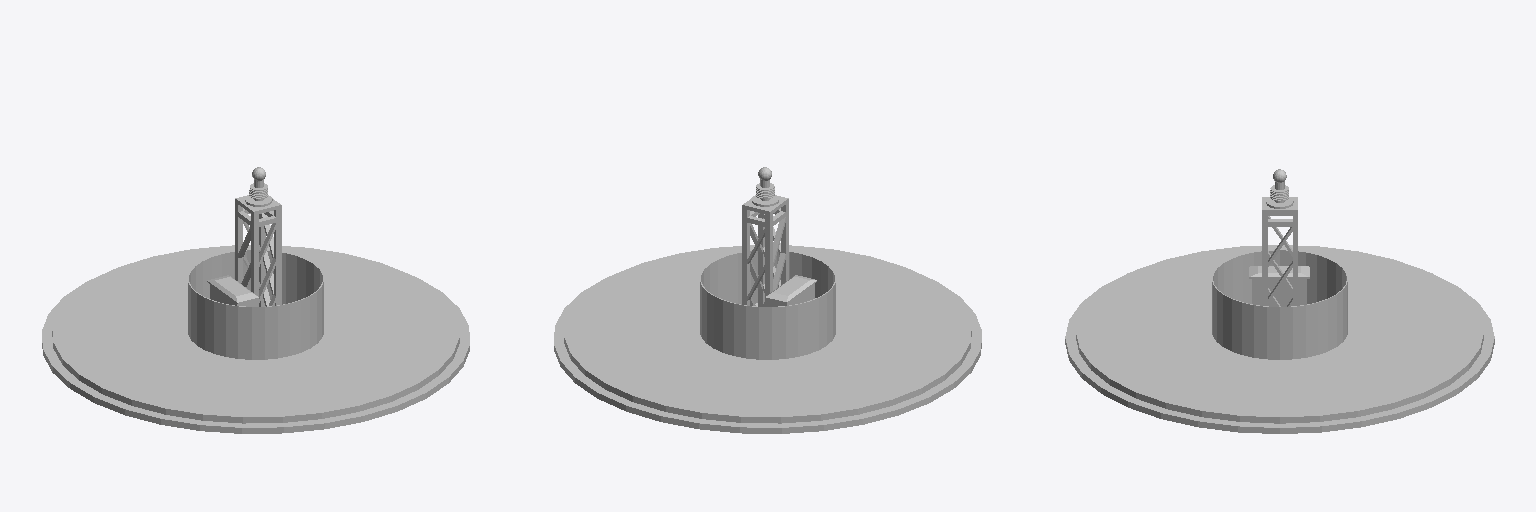
Rendered from CapturePoint.obj.
The picture shows the model from 3 angles: view 1: azimuth 30°, elevation 25°; view 2: azimuth 150°, elevation 25°; view 3: azimuth 270°, elevation 25°; orthographic projection.
Parts seen in each view (by area): view 1: Cylinder; view 2: Cylinder; view 3: Cylinder.
Part boxes in pixels (left/top/right/bottom): Cylinder: left=42, top=167, right=469, bottom=433; Cylinder: left=554, top=167, right=981, bottom=433; Cylinder: left=1065, top=169, right=1494, bottom=433.
Bounding box in the file's own units: 4.55 × 2.04 × 4.55.